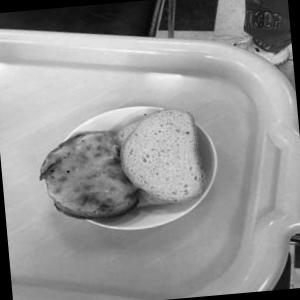bread: (116, 100, 212, 228)
cheese_sandwich: (33, 118, 148, 248)
